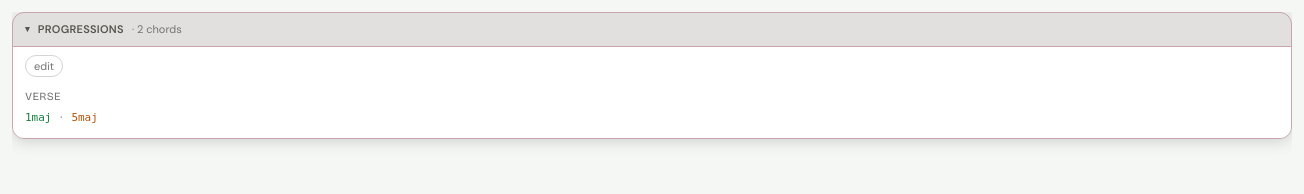
Test case: editing › opens the choices row for a chord once editing
Step 1. Click the button "edit" → (44, 66), box [25,54,63,77]
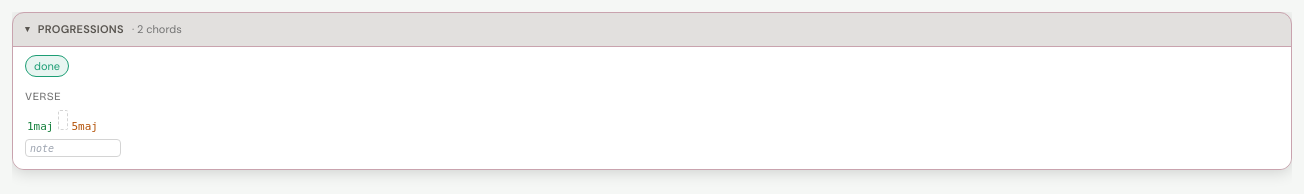
Step 2. Click the button "1maj" → (40, 127), box [25,118,56,135]
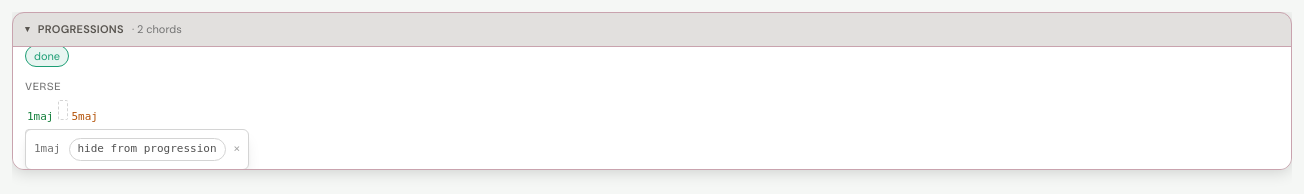
Now the text "hide from progression" is shown, box [68,138,226,160]
